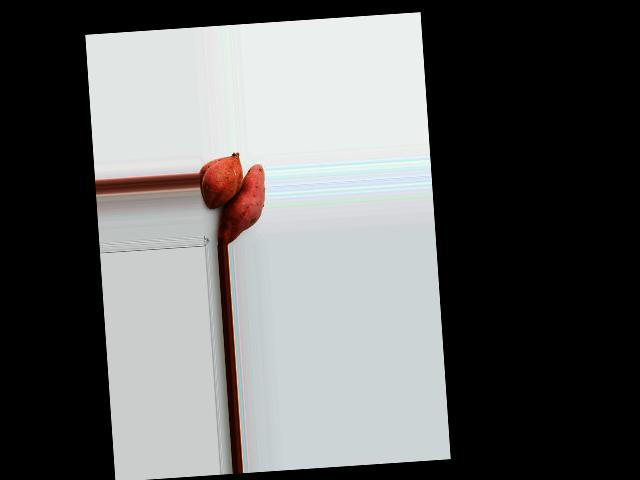sweet_potato: (203, 151, 240, 206)
